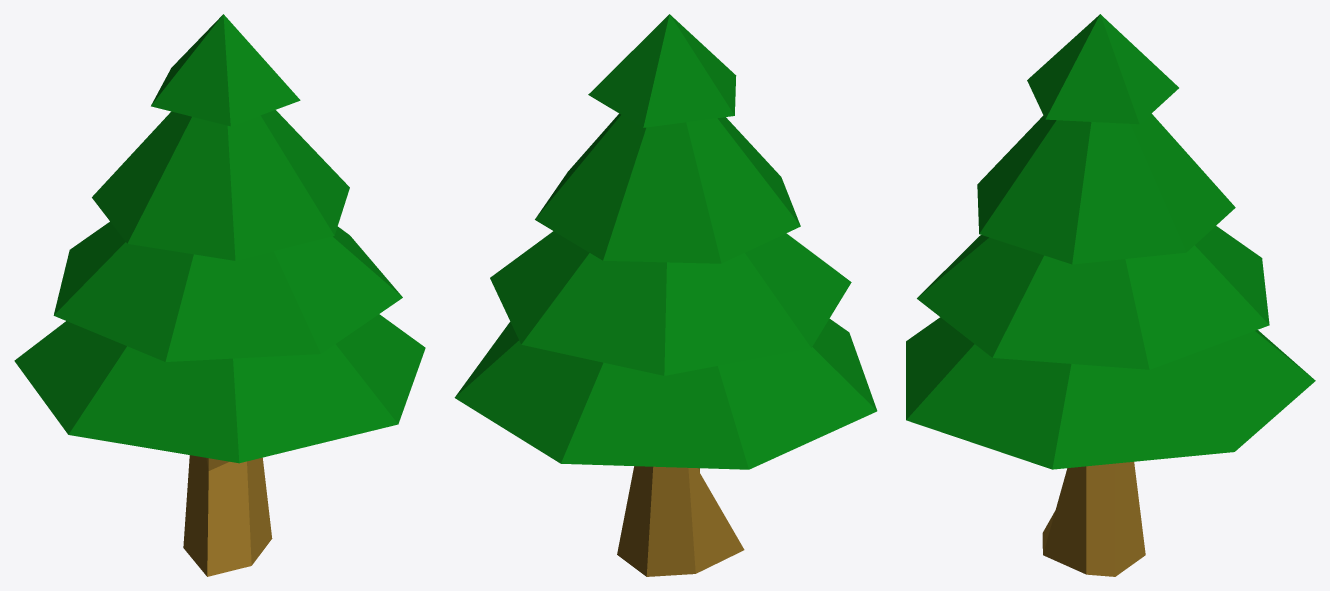
File: Tree_1.fbx
The picture shows the model from 3 angles, left to right: view 1: azimuth 30°, elevation 25°; view 2: azimuth 150°, elevation 25°; view 3: azimuth 270°, elevation 25°; orthographic projection. The views are drawn at different scales.
Parts seen in each view (by area): view 1: Cone, Cone.001, Cone.002, Cone.004, Cylinder; view 2: Cone, Cone.001, Cone.002, Cylinder, Cone.004; view 3: Cone, Cone.001, Cone.002, Cone.004, Cylinder.
Part boxes in pixels (<box>): Cone: <box>14,314,425,463</box>; Cone.001: <box>53,221,402,361</box>; Cone.002: <box>92,110,349,260</box>; Cone.004: <box>151,14,300,126</box>; Cylinder: <box>183,455,272,576</box>; Cone: <box>454,318,877,469</box>; Cone.001: <box>490,231,851,375</box>; Cone.002: <box>535,113,800,263</box>; Cylinder: <box>617,466,744,576</box>; Cone.004: <box>588,14,736,127</box>; Cone: <box>906,317,1315,469</box>; Cone.001: <box>917,226,1269,369</box>; Cone.002: <box>977,113,1235,264</box>; Cone.004: <box>1027,14,1178,124</box>; Cylinder: <box>1042,461,1145,576</box>.
Bounding box in the file's own units: 1427 × 2028 × 1392.
